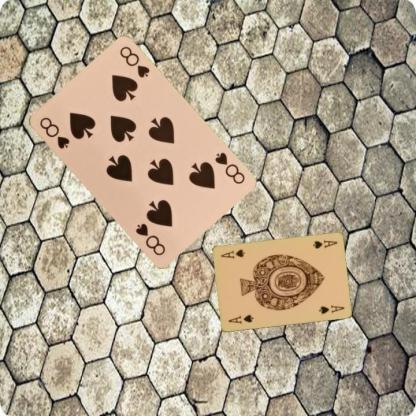8s: (36, 114, 70, 150), (212, 149, 245, 186)
As: (225, 312, 254, 325), (310, 238, 339, 250)
